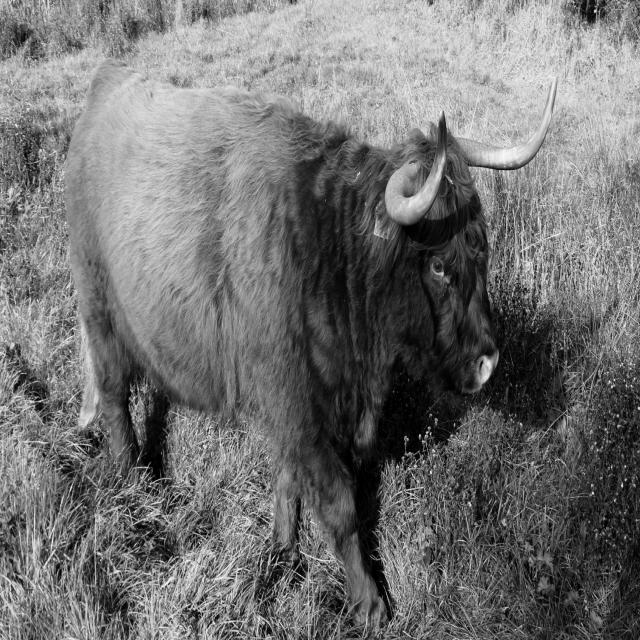cow: (66, 60, 558, 627)
